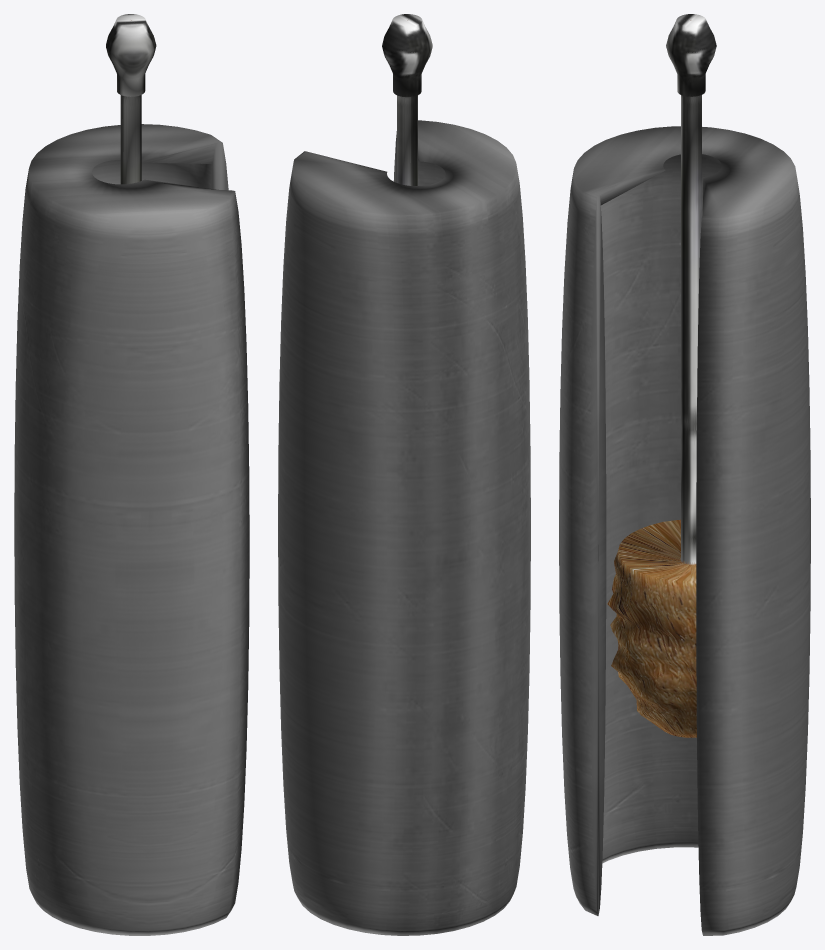
The model's file is klobuerste.fbx.
3 views of the same model, side by side, from view 1: azimuth 30°, elevation 25°; view 2: azimuth 150°, elevation 25°; view 3: azimuth 270°, elevation 25° (orthographic).
Parts seen in each view (by area): view 1: Brush_2_Cylinder_009, Brush_1_Cylinder_005; view 2: Brush_2_Cylinder_009, Brush_1_Cylinder_005; view 3: Brush_2_Cylinder_009, Brush_1_Cylinder_005.
Part boxes in pixels (<box>): Brush_2_Cylinder_009: <box>14,124,249,935</box>; Brush_1_Cylinder_005: <box>106,14,156,184</box>; Brush_2_Cylinder_009: <box>278,120,530,935</box>; Brush_1_Cylinder_005: <box>382,14,432,185</box>; Brush_2_Cylinder_009: <box>559,126,810,935</box>; Brush_1_Cylinder_005: <box>607,14,716,737</box>.
Size of the model in its own units: 1.14 by 4.49 by 1.18.
